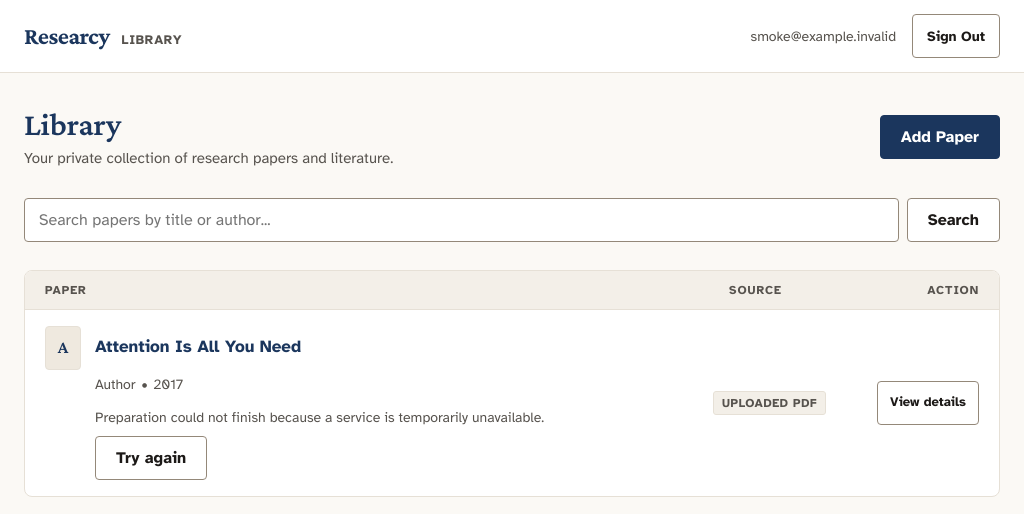
Test: retries a terminal failure using its persisted revision and displays the accepted delayed state
Click the button "Try again" at (151, 458), box [95,436,207,480]
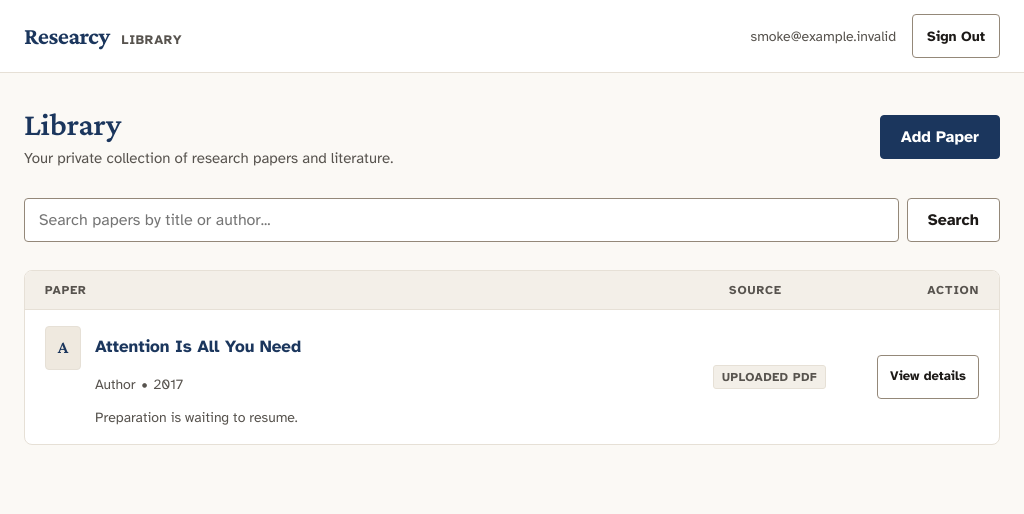
expect the link "Attention Is All You Need" is shown: met, box [95,336,301,357]
expect the button "Try again" is gone: met
